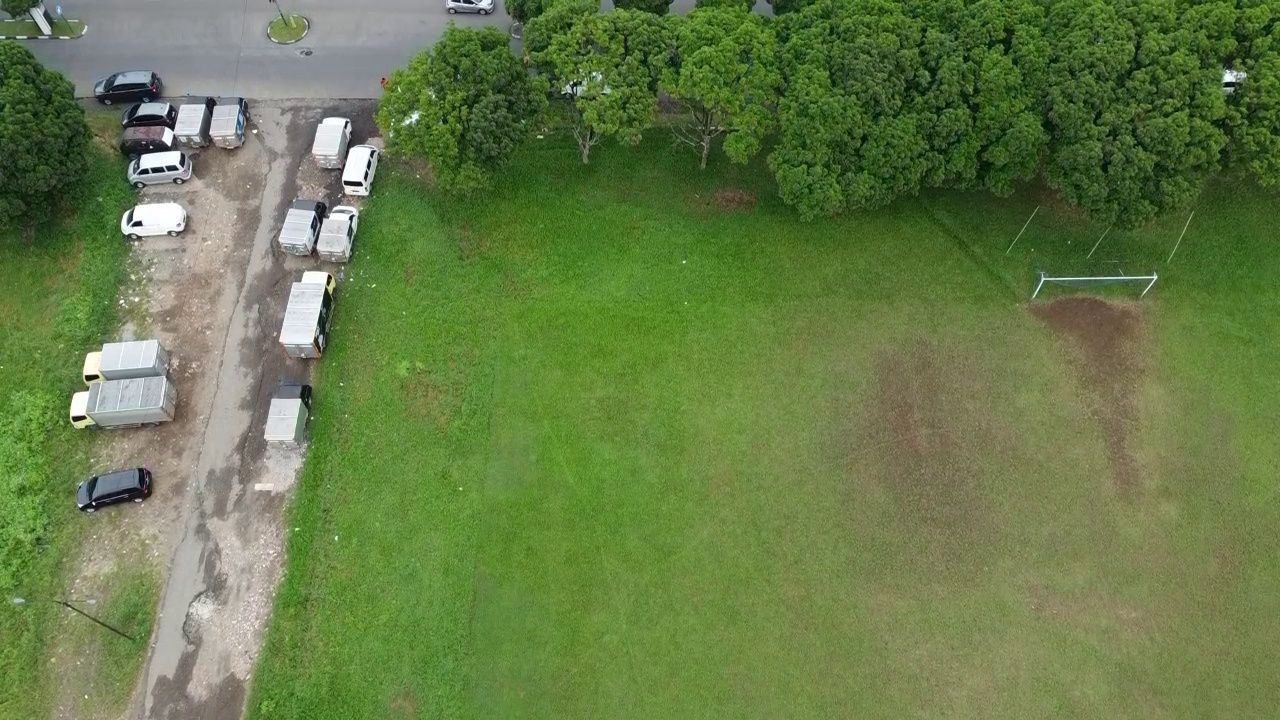mobil: (69, 464, 161, 513), (116, 203, 196, 242), (336, 138, 386, 200), (124, 146, 196, 188), (89, 68, 166, 105), (120, 100, 177, 132), (122, 124, 177, 153), (445, 1, 499, 21)
